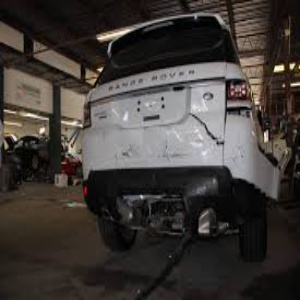door: (105, 145, 221, 193)
